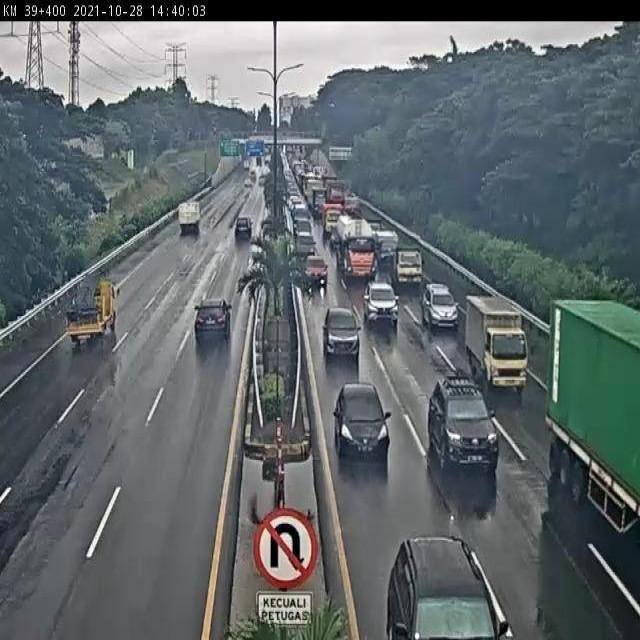big truck: (548, 300, 640, 528), (334, 209, 376, 280)
car: (425, 378, 495, 466), (332, 384, 392, 459), (419, 281, 460, 331), (323, 306, 360, 354), (193, 297, 232, 340), (363, 281, 398, 323), (302, 255, 328, 284)
mid truck: (234, 218, 251, 238)
small truck: (465, 295, 530, 389), (64, 268, 115, 347), (392, 243, 428, 289)
